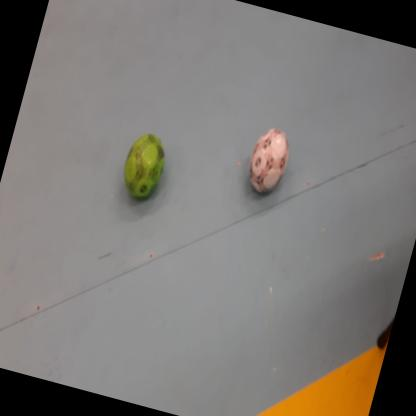ball: (116, 128, 173, 208), (240, 124, 296, 200)
